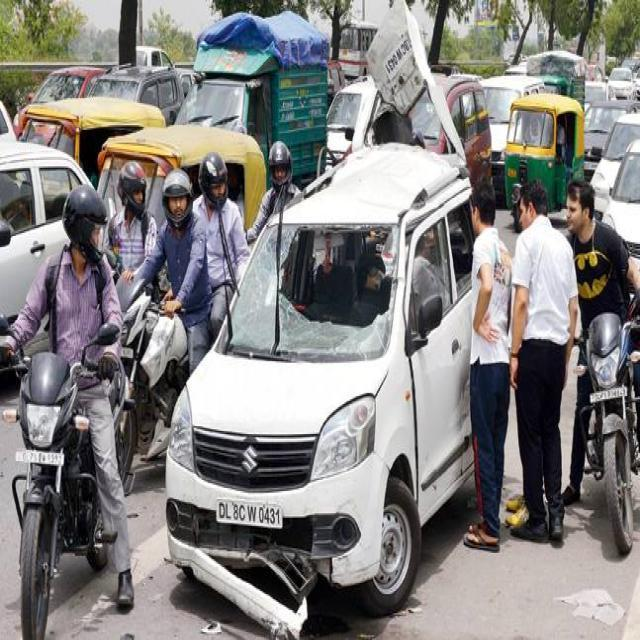accident: (168, 144, 500, 640)
non-accident: (502, 53, 640, 231)
